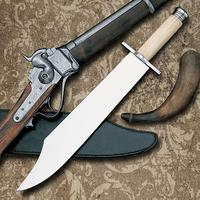knife: (13, 20, 175, 196)
